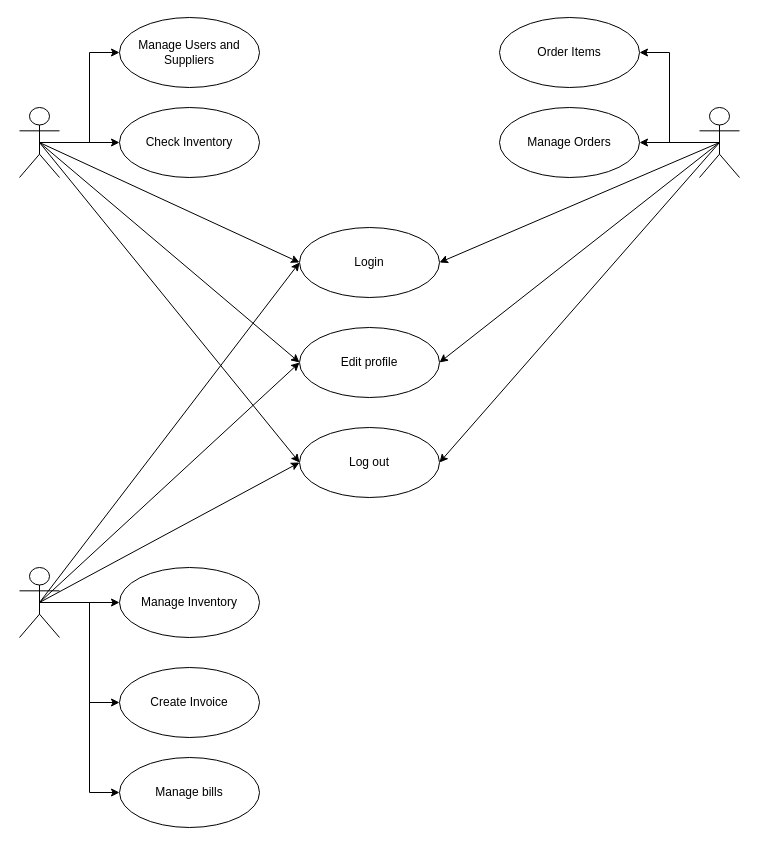
This 757x845 diagram has some shape labels left out. Each missing label, with the centre of its shape:
Admin: [39,142]
Supplier: [39,602]
User: [719,142]
